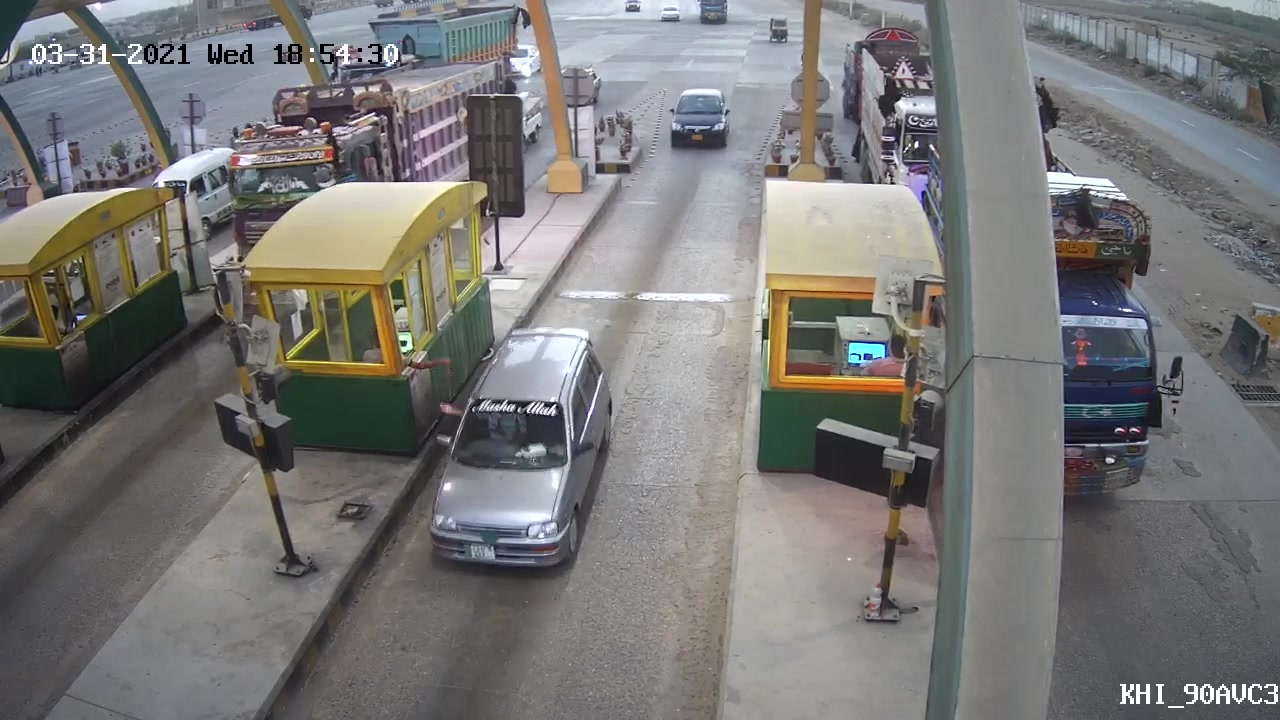F1: (419, 321, 621, 572)
